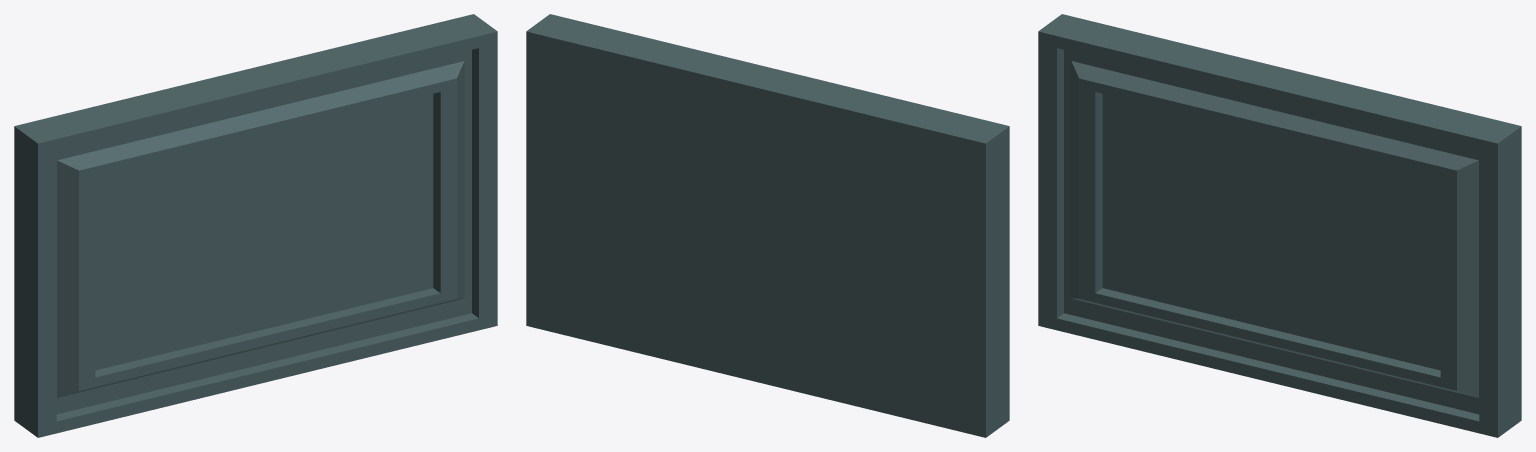
Rendered from AGVE_Painting3.fbx.
3 views of the same model, side by side, from view 1: azimuth 30°, elevation 25°; view 2: azimuth 150°, elevation 25°; view 3: azimuth 330°, elevation 25° (orthographic).
Parts seen in each view (by area): view 1: Frame; view 2: Frame; view 3: Frame.
Boxes of the visible parts, bbox=[...] form: Frame: bbox=[14, 14, 497, 437]; Frame: bbox=[526, 14, 1009, 437]; Frame: bbox=[1038, 14, 1521, 437].
Size of the model in its own units: 126 by 77.16 by 11.36.
